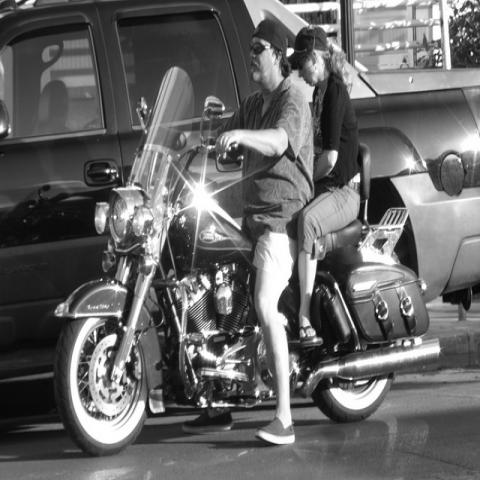car: (0, 1, 479, 372)
motorcycle: (49, 67, 453, 459)
